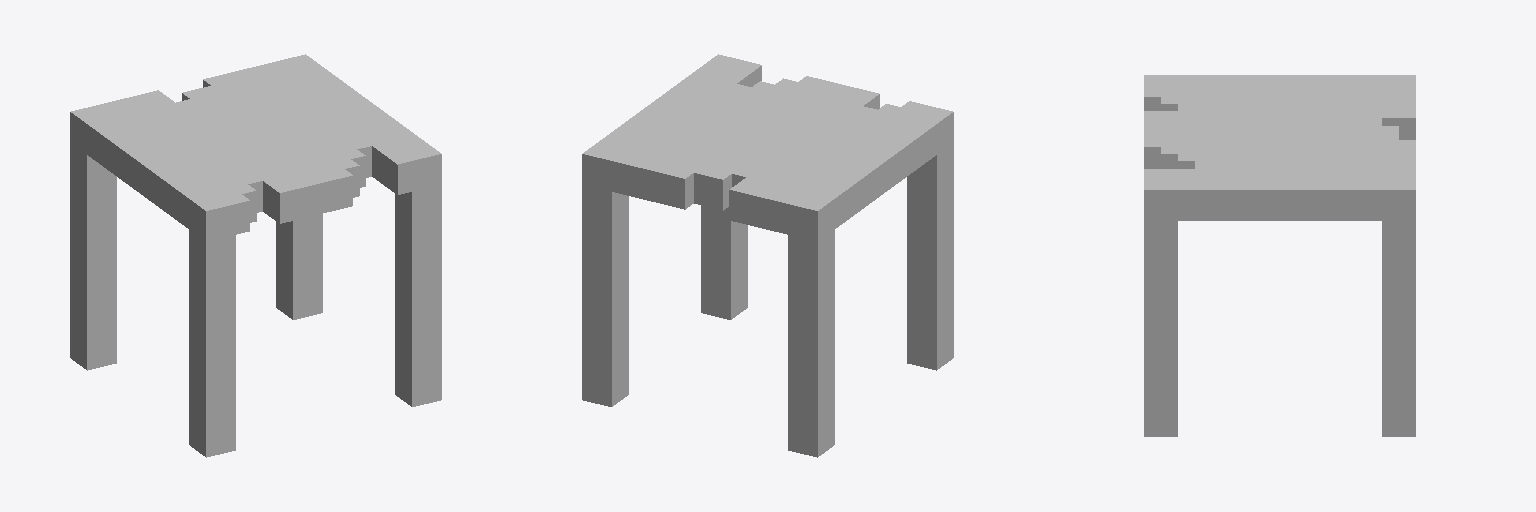
The model's file is Wood.obj.
3 views of the same model, side by side, from view 1: azimuth 30°, elevation 25°; view 2: azimuth 150°, elevation 25°; view 3: azimuth 270°, elevation 25° (orthographic).
Visible parts, largest first — view 1: object 1; view 2: object 1; view 3: object 1.
Part boxes in pixels (x1,y1,x2,y2): object 1: (70, 54, 441, 457); object 1: (582, 54, 953, 457); object 1: (1144, 75, 1415, 436).
Bounding box in the file's own units: 1.6 × 1.6 × 1.6.